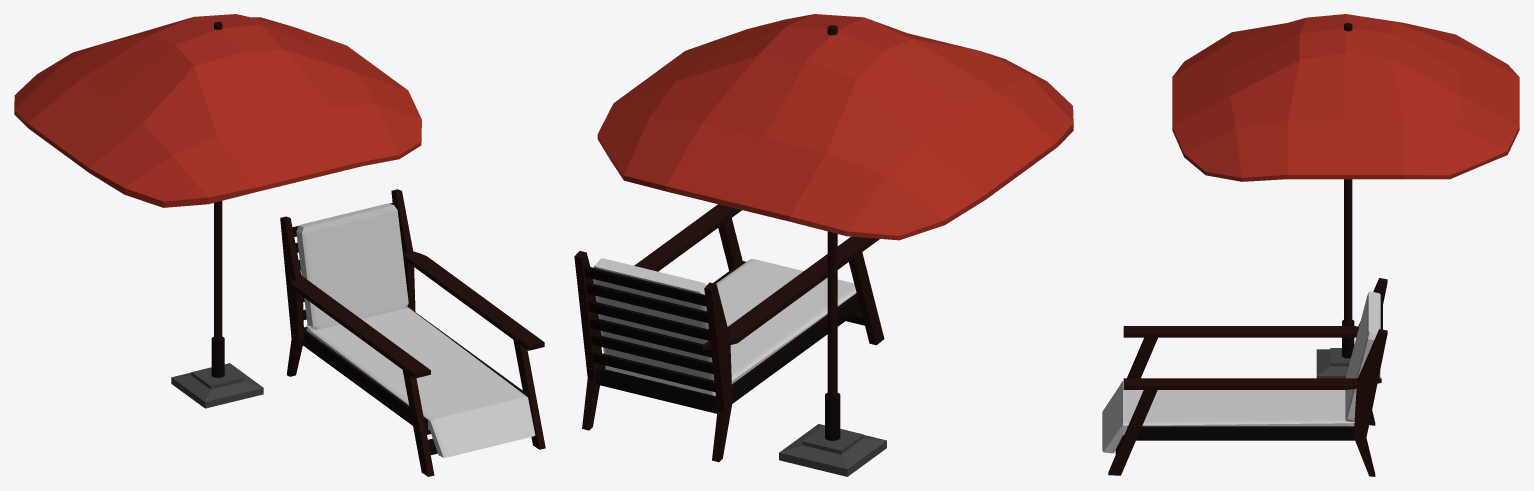
3 views of the same model, side by side, from view 1: azimuth 30°, elevation 25°; view 2: azimuth 150°, elevation 25°; view 3: azimuth 270°, elevation 25° (orthographic). The views are drawn at different scales.
Visible parts, largest first — view 1: Cube.001_Cube.019, Cube.014_Cube.016, Cube.004, Cube.015_Cube.017, Cube_Cube.018, Cube.005_Cube.007, Cylinder, Cube.003_Cube.005; view 2: Cube.001_Cube.019, Cube.004, Cube.008_Cube.010, Cube.014_Cube.016, Cube.015_Cube.017, Cube_Cube.018, Cube.003_Cube.005, Cube.005_Cube.007, Cylinder, Cylinder.001; view 3: Cube.001_Cube.019, Cube.004, Cube.014_Cube.016, Cube.005_Cube.007, Cube.015_Cube.017, Cylinder, Cube_Cube.018, Cube.003_Cube.005.
Boxes of the visible parts, box(x1,y1,x2,y2) form: Cube.001_Cube.019: box(14, 14, 421, 207); Cube.014_Cube.016: box(306, 307, 535, 457); Cube.004: box(280, 189, 545, 476); Cube.015_Cube.017: box(296, 203, 408, 329); Cube_Cube.018: box(171, 363, 263, 408); Cube.005_Cube.007: box(304, 306, 529, 429); Cylinder: box(214, 22, 222, 340); Cube.003_Cube.005: box(303, 327, 530, 434); Cube.001_Cube.019: box(597, 14, 1073, 240); Cube.004: box(574, 204, 884, 462); Cube.008_Cube.010: box(584, 266, 864, 392); Cube.014_Cube.016: box(605, 259, 856, 395); Cube.015_Cube.017: box(593, 258, 714, 380); Cube_Cube.018: box(779, 424, 886, 476); Cube.003_Cube.005: box(595, 305, 860, 413); Cube.005_Cube.007: box(595, 261, 859, 410); Cylinder: box(827, 25, 837, 397); Cylinder.001: box(825, 393, 840, 440); Cube.001_Cube.019: box(1172, 14, 1519, 181); Cube.004: box(1108, 278, 1387, 476); Cube.014_Cube.016: box(1102, 381, 1354, 453); Cube.005_Cube.007: box(1127, 426, 1354, 436); Cube.015_Cube.017: box(1345, 291, 1380, 421); Cylinder: box(1344, 23, 1352, 323); Cube_Cube.018: box(1316, 348, 1380, 378); Cube.003_Cube.005: box(1136, 437, 1354, 440).
Bounding box in the file's own units: 1.78 × 1.77 × 1.86.
